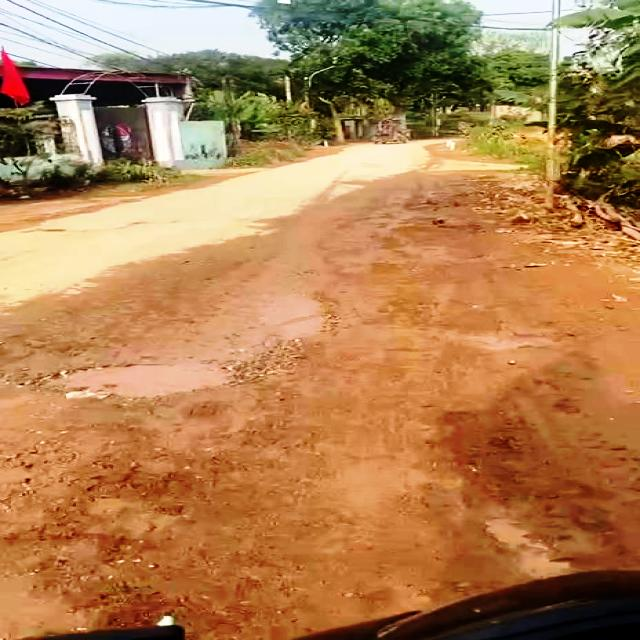pothole: (36, 350, 244, 405)
